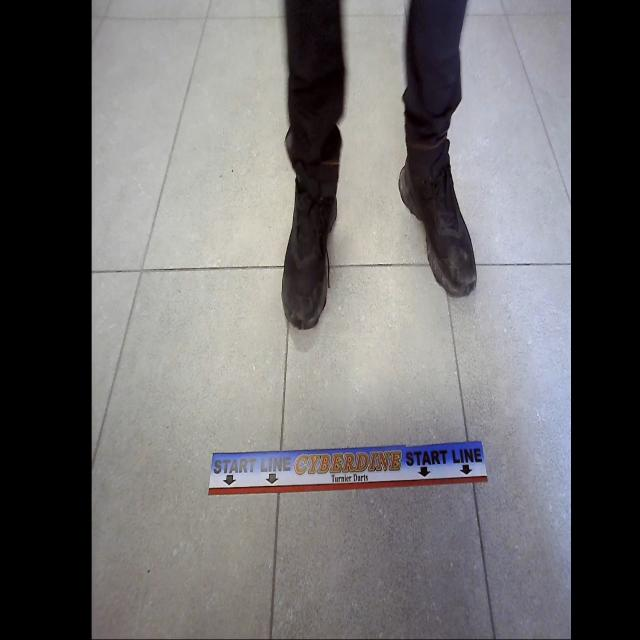foot: (398, 150, 477, 298), (280, 172, 338, 332)
